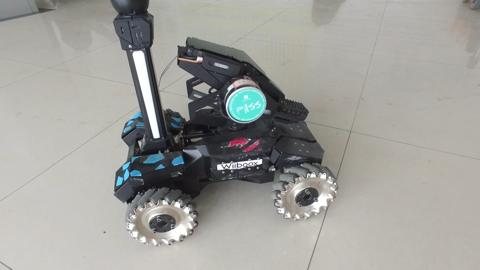chariot: (108, 1, 339, 247)
